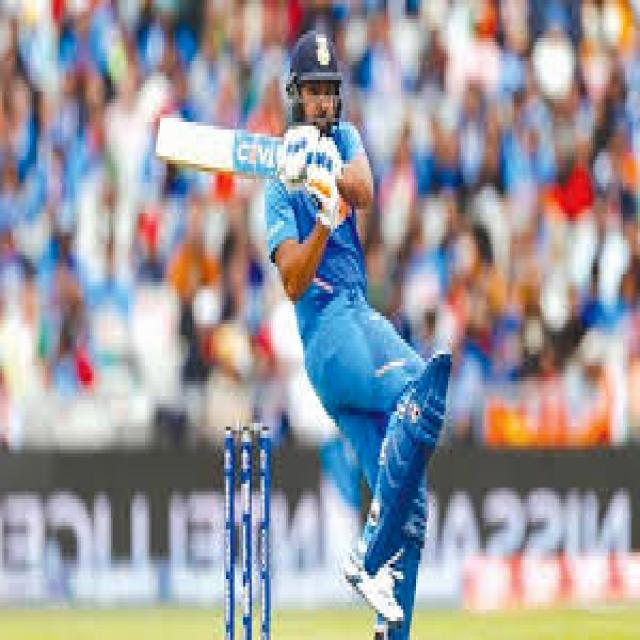toe: (147, 110, 178, 174)
